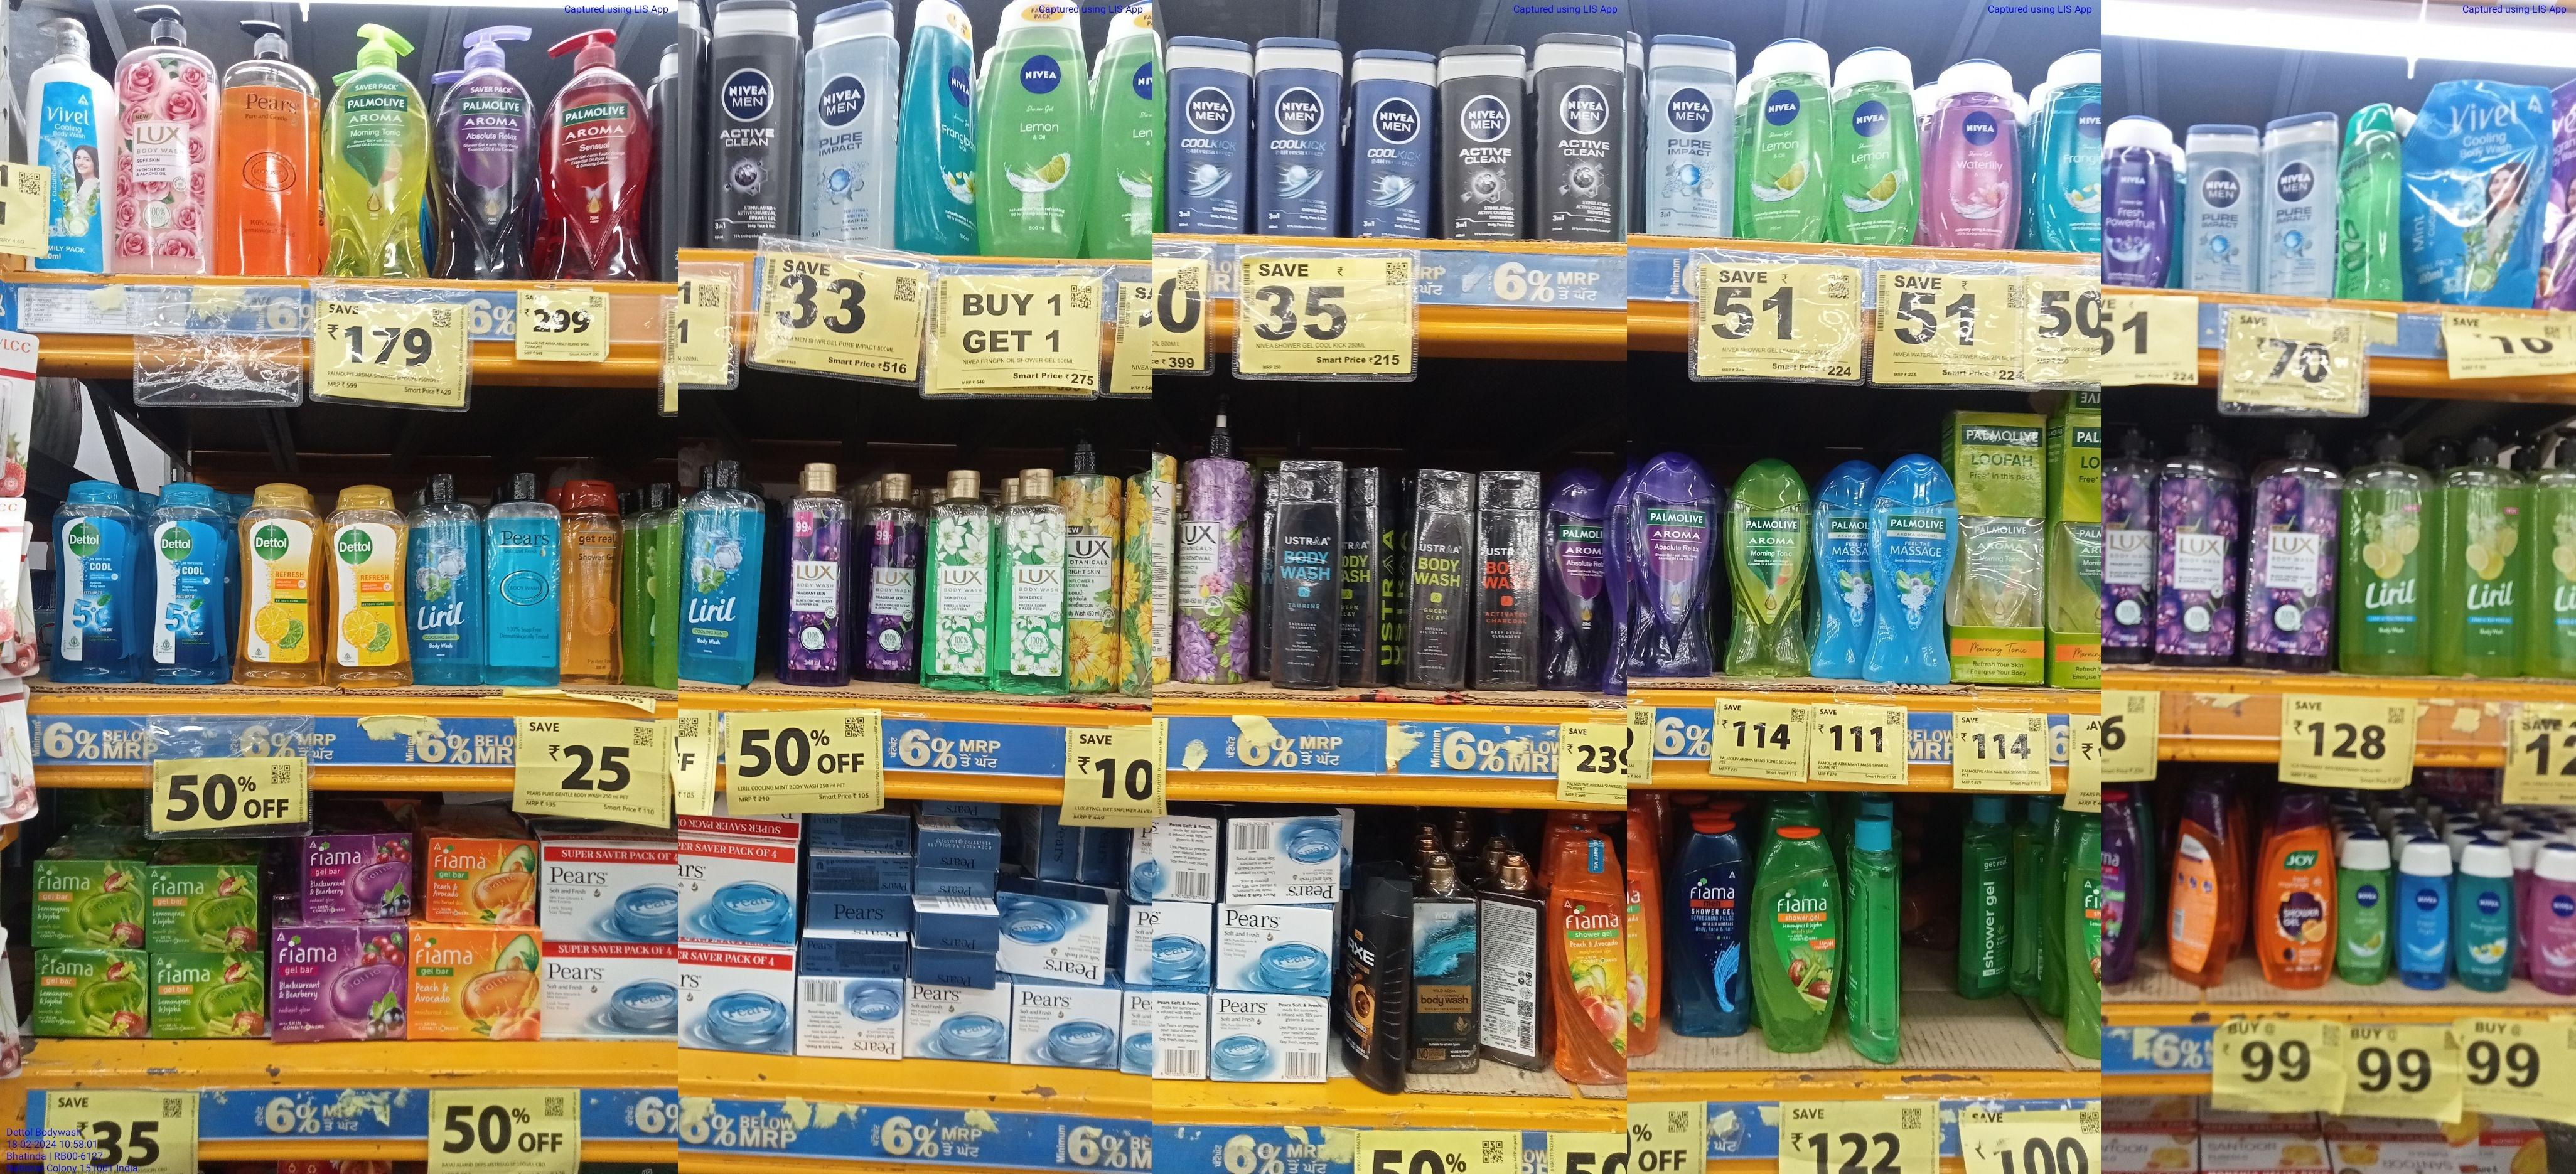Dettol_Bodywash_Cool: (48, 476, 140, 676), (148, 481, 227, 676)
Dettol_Bodywash_Refresh: (233, 481, 324, 691), (329, 488, 412, 690)
Fiama_Shower_Gel_Lemongrass_and_Jojoba_250ML: (1753, 826, 1840, 1051)
Get_Real_Shower_Gel_Moisturising_Glycerin_300ML: (563, 471, 626, 683)
Joy_Shower_Gel_Mandarin_and_Lemongrass_250ML: (2259, 790, 2333, 987)
Liril_Cooling_Mint_Body_Wash_250ML: (414, 478, 486, 690), (688, 463, 754, 686)
Lux_Black_Orchid_Scent_and_Juniper_Oil_Body_Wash_245ML: (782, 461, 851, 686), (856, 466, 918, 680)
Lux_Body_Wash_Skin_Detox_Freesia_Scent_and_Alove_Vera_245ML: (922, 468, 994, 688), (1000, 466, 1069, 696)
Nivea_Shower_Gel_Frangipani_and_Oil_250ML: (905, 0, 981, 253)
Nivea_Shower_Gel_Lemon_and_Oil_250ML: (987, 0, 1083, 255), (1746, 33, 1827, 238), (1835, 51, 1917, 246)
Nivea_Shower_Gel_Waterlily_and_Oil_250ML: (1919, 56, 2024, 245)
Palmolive_Aroma_Moments_Feel_The_Massage_Shower_Gel_250ML: (1863, 460, 1958, 690)
Palmolive_Aroma_Morning_Tonic_Shower_Gel_250ML: (1723, 458, 1812, 680)
Palmolive_Aroma_Relax_250ML: (1628, 435, 1715, 672), (1543, 471, 1608, 690)
Pears_Pure_Glycerin_and_Mint_Extracts_Body_Wash_250ML: (493, 470, 562, 695)
